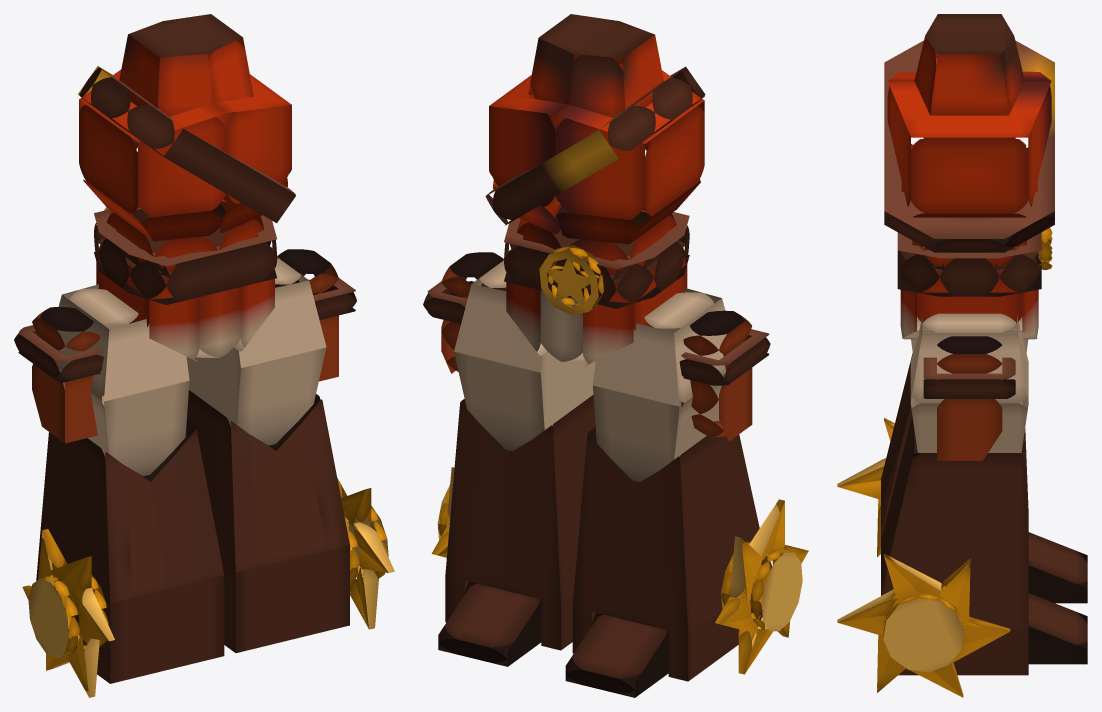
Rendered from TexasRedBody.obj.
The picture shows the model from 3 angles, left to right: view 1: azimuth 30°, elevation 25°; view 2: azimuth 150°, elevation 25°; view 3: azimuth 270°, elevation 25°; orthographic projection.
Parts seen in each view (by area): view 1: Shin, Body, Thigh, tube, Spurs, cuboid, Pelvis; view 2: Shin, Body, Thigh, tube, Toe, cuboid, Spurs, Pelvis, cylinder; view 3: Body, Shin, tube, Spurs, cuboid, Thigh, Toe, Pelvis.
Boxes of the visible parts, x1,y1,x2,y2 form: Shin: (36, 390, 349, 683); Body: (79, 14, 291, 272); Thigh: (57, 257, 326, 476); tube: (78, 66, 295, 304); Spurs: (22, 478, 394, 697); cuboid: (14, 249, 356, 443); Pelvis: (96, 237, 274, 361); Shin: (445, 395, 763, 681); Body: (489, 14, 704, 275); Thigh: (454, 260, 726, 482); tube: (485, 66, 705, 315); Toe: (438, 583, 668, 697); cuboid: (423, 252, 770, 441); Spurs: (431, 467, 808, 674); Pelvis: (506, 240, 687, 366); cylinder: (547, 252, 599, 304); Body: (887, 14, 1051, 266); Shin: (881, 353, 1028, 675); tube: (884, 40, 1054, 296); Spurs: (837, 418, 1010, 697); cuboid: (923, 336, 1015, 460); Thigh: (910, 313, 1028, 453); Toe: (1028, 532, 1087, 664); Pelvis: (900, 251, 1038, 339).
Size of the model in its own units: 0.7 by 1.25 by 0.4773.
1 material, 1 textured.
